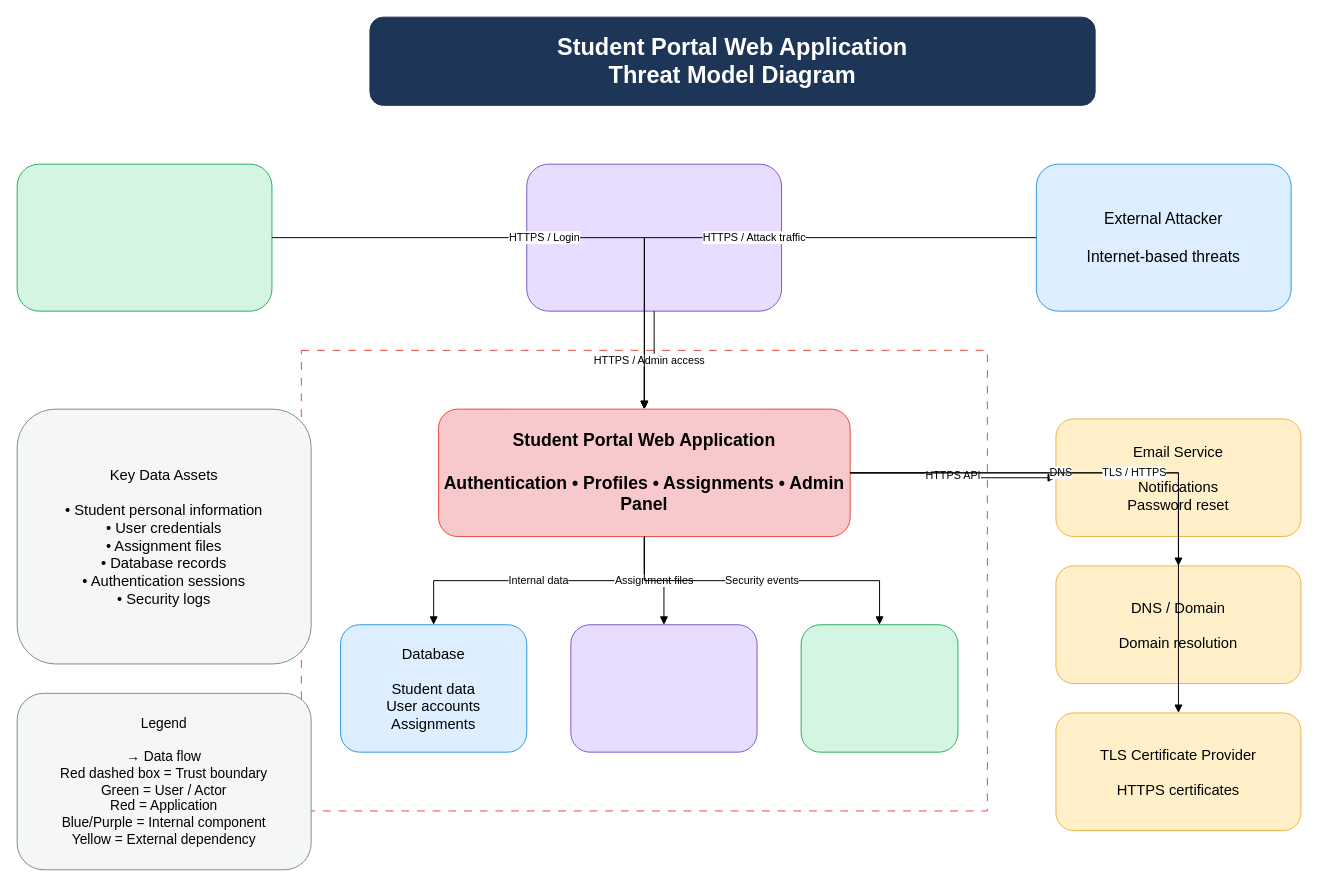
Image size: 1318x887. Some labels were removed from this diagram. The shapes that lost their labels are listed below. From the top down, each one's box as (x1, y1, x2, y2) in pixels, then its label:
(16, 163, 272, 311): Student User • Login • View profile • Submit assignments
(526, 163, 782, 311): Administrator • Manage users • Manage assignments • View reports
(300, 349, 987, 811): Application Trust Boundary (Internal application environment)
(570, 624, 757, 752): File Storage Assignment uploads
(800, 624, 958, 752): Logs / Monitoring Application logs Security events
